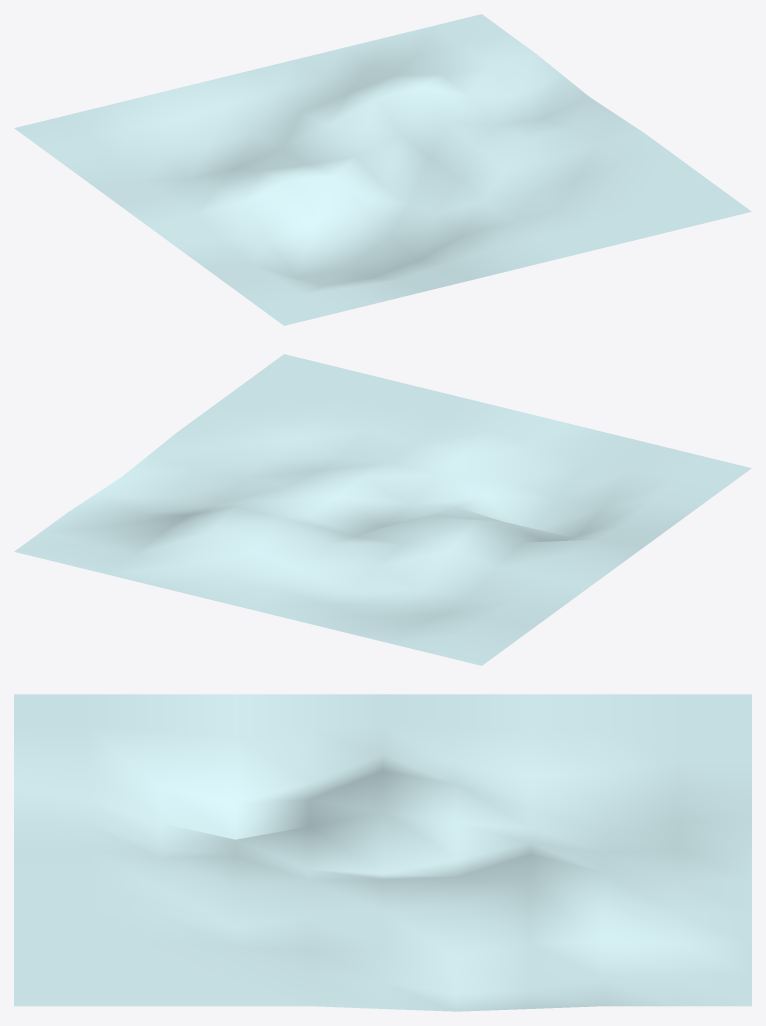
File: SS_Terrain2.fbx
3 renders of one model, top to bottom at view 1: azimuth 30°, elevation 25°; view 2: azimuth 150°, elevation 25°; view 3: azimuth 270°, elevation 25°, orthographic. The views are drawn at different scales.
Parts seen in each view (by area): view 1: Terrain2; view 2: Terrain2; view 3: Terrain2.
Part boxes in pixels (x1,y1,x2,y2): Terrain2: (14,14,751,325); Terrain2: (14,354,751,665); Terrain2: (14,694,751,1011).
Bounding box in the file's own units: 23.97 × 2.83 × 23.97.
